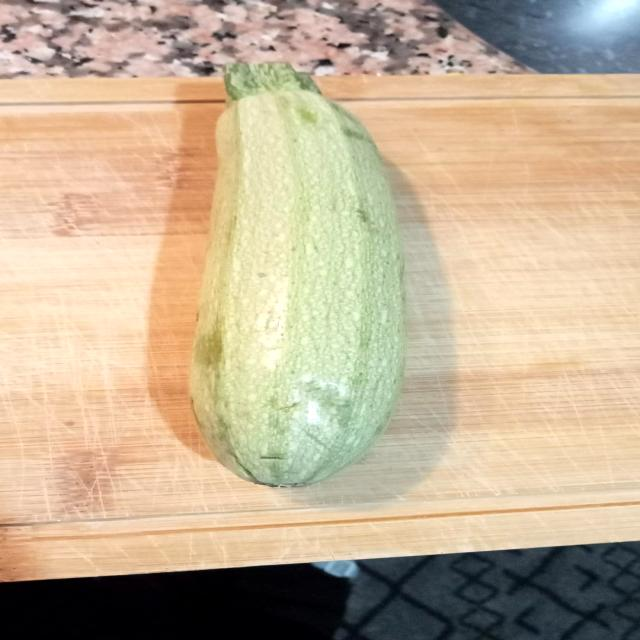zucchini: (130, 38, 450, 498)
